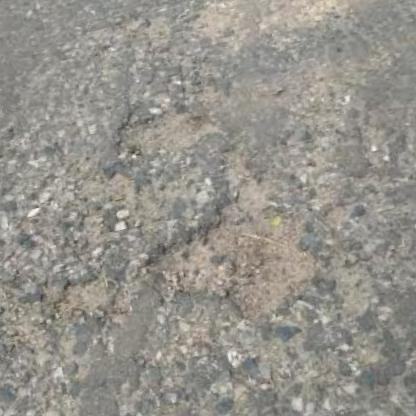pothole: (125, 164, 326, 341), (107, 94, 224, 170), (46, 270, 117, 322)
